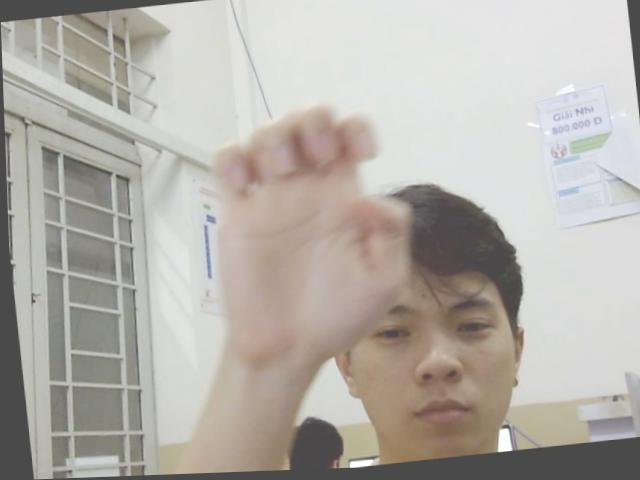E: (200, 96, 418, 364)
